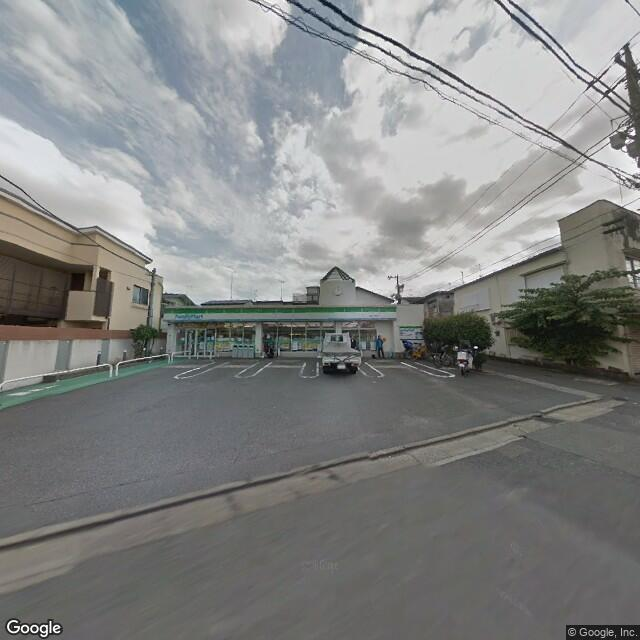family_mart: (159, 304, 400, 325)
